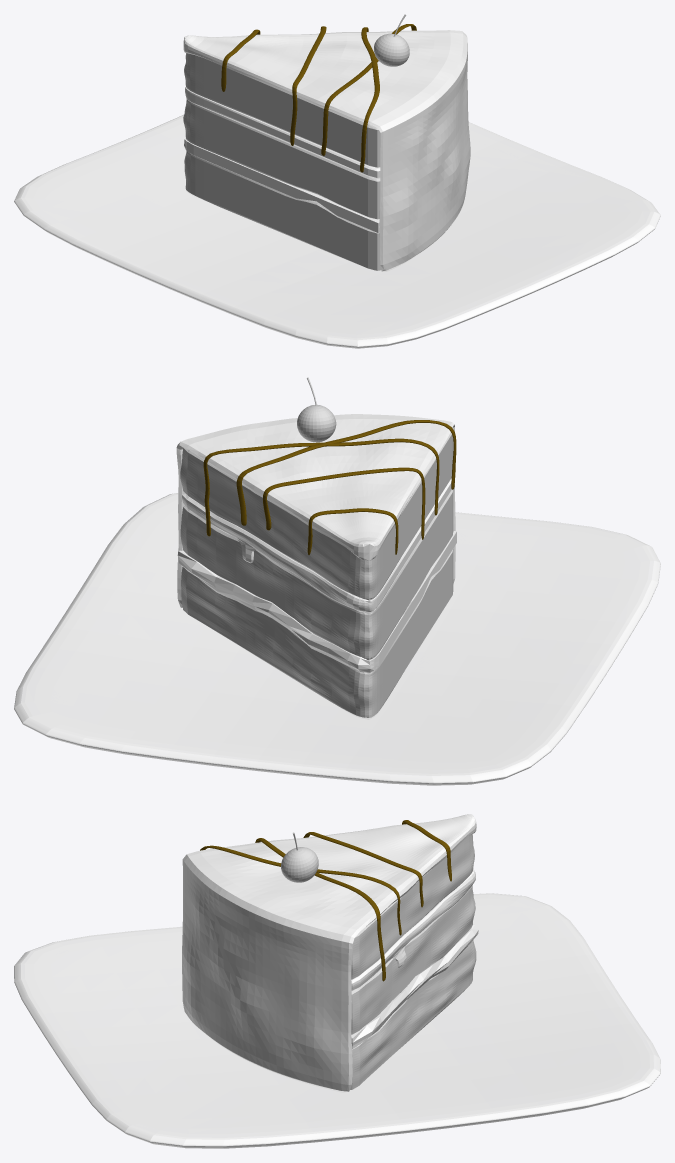
The model's file is Chocolate Cake.glb.
The picture shows the model from 3 angles, top to bottom: view 1: azimuth 30°, elevation 25°; view 2: azimuth 150°, elevation 25°; view 3: azimuth 270°, elevation 25°; orthographic projection. The views are drawn at different scales.
Parts seen in each view (by area): view 1: Box001, Cylinder01, Cylinder02, Cylinder04, Cylinder06, Cylinder05, Cylinder03, Sphere001, Plane004, Plane002, Plane003; view 2: Box001, Cylinder01, Cylinder02, Cylinder04, Cylinder06, Cylinder05, Cylinder03, Plane003, Plane004, Sphere001, Plane002, Plane001; view 3: Box001, Cylinder01, Cylinder04, Cylinder02, Cylinder06, Cylinder05, Cylinder03, Sphere001, Plane004, Plane003, Plane002.
Part boxes in pixels (<box>): Box001: <box>14,114,660,348</box>; Cylinder01: <box>183,30,470,271</box>; Cylinder02: <box>183,99,380,219</box>; Cylinder04: <box>184,151,381,270</box>; Cylinder06: <box>184,53,380,167</box>; Cylinder05: <box>184,138,379,232</box>; Cylinder03: <box>185,86,380,177</box>; Sphere001: <box>374,33,409,66</box>; Plane004: <box>360,27,379,172</box>; Plane002: <box>290,26,326,145</box>; Plane003: <box>321,24,416,155</box>; Box001: <box>14,493,660,785</box>; Cylinder01: <box>176,414,455,607</box>; Cylinder02: <box>180,489,453,660</box>; Cylinder04: <box>181,549,453,717</box>; Cylinder06: <box>180,427,453,600</box>; Cylinder05: <box>177,531,456,672</box>; Cylinder03: <box>182,478,451,611</box>; Plane003: <box>203,438,439,536</box>; Plane004: <box>236,420,456,525</box>; Sphere001: <box>297,404,336,442</box>; Plane002: <box>263,467,425,539</box>; Plane001: <box>307,508,398,554</box>; Box001: <box>14,893,660,1148</box>; Cylinder01: <box>182,814,476,1091</box>; Cylinder04: <box>350,940,476,1089</box>; Cylinder02: <box>351,885,475,1034</box>; Cylinder06: <box>351,834,474,979</box>; Cylinder05: <box>351,924,478,1049</box>; Cylinder03: <box>351,869,475,990</box>; Sphere001: <box>281,847,318,882</box>; Plane004: <box>200,845,401,935</box>; Plane003: <box>255,838,385,981</box>; Plane002: <box>303,832,423,907</box>.
Size of what is drawn, in the model's own units: 0.1884 by 0.0804 by 0.2047.
